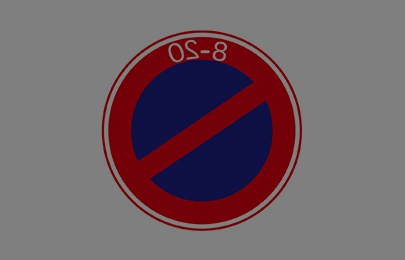Prohibition_sign: (95, 20, 301, 237)
